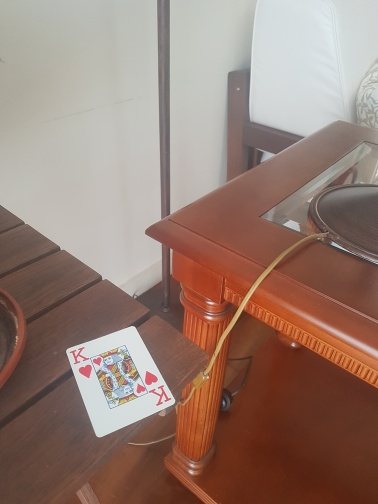king: (65, 326, 175, 438)
